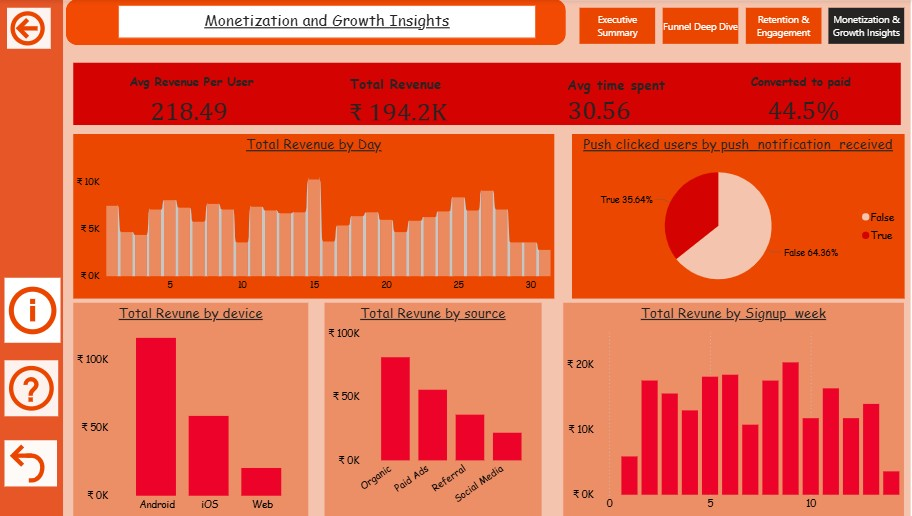

Layout of this report page (visuals, bound fields, positions):
{"tool":"powerbi","page":{"name":"Monetization & Growth Insights","canvas":[1280,720],"ordinal":3},"visuals":[{"type":"shape","box":[5.6,1.4,1268.9,719.3],"z":0},{"type":"shape","box":[10.5,0,88.4,719.8],"z":1000},{"type":"columnChart","fields":{"Y":["reading_app_funnel_dataset.Total Revune"],"Category":["reading_app_funnel_dataset.source"]},"box":[460.5,420.2,300.5,300.5],"z":2000},{"type":"columnChart","fields":{"Y":["reading_app_funnel_dataset.Total Revune"],"Category":["reading_app_funnel_dataset.device"]},"box":[112.7,420.2,325.6,300.5],"z":3000},{"type":"pieChart","fields":{"Category":["reading_app_funnel_dataset.push_notification_received"],"Y":["reading_app_funnel_dataset.Push clicked users"]},"box":[802.8,186.4,460.5,228.2],"z":4000},{"type":"columnChart","title":"Total Revenue by Day","fields":{"Category":["reading_app_funnel_dataset.signup_date.Variation.Date Hierarchy.Day"],"Y":["reading_app_funnel_dataset.Total Revune"]},"box":[112.7,186.4,666.4,228.2],"z":5000},{"type":"lineStackedColumnComboChart","fields":{"Category":["reading_app_funnel_dataset.Signup_week"],"Y":["reading_app_funnel_dataset.Total Revune"]},"box":[791.7,420.2,471.7,299.1],"z":6000},{"type":"shape","box":[103,0,692.9,64],"z":7000},{"type":"textbox","box":[175.3,8.3,578.8,45.9],"z":8000},{"type":"shape","box":[112.7,89,1146.4,86.3],"z":9000},{"type":"card","fields":{"Values":["reading_app_funnel_dataset.ARRPU"]},"box":[173.9,132.2,200.3,43.1],"z":10000},{"type":"card","fields":{"Values":["reading_app_funnel_dataset.Total Revune"]},"box":[449.4,136.3,225.4,36.2],"z":11000},{"type":"card","fields":{"Values":["reading_app_funnel_dataset.Average Session duration"]},"box":[730.4,132.2,221.2,40.3],"z":12000},{"type":"card","fields":{"Values":["reading_app_funnel_dataset.conversion to paid"]},"box":[1015.7,130.8,215.7,41.7],"z":13000},{"type":"textbox","box":[158.6,98.8,233.7,33.4],"z":14000},{"type":"textbox","box":[729,100.2,221.2,32],"z":15000},{"type":"textbox","box":[442.4,98.8,221.2,32],"z":16000},{"type":"textbox","box":[1010.1,98.8,221.2,33.4],"z":17000}]}

Visuals, with their boxes on the page's 1280x720 design canvas (x1, y1, x2, y2). These are canvas units, not pixel positions in the 912x516 screenshot, which may show the page scaled, cropped or inside an application window:
shape: locate(6, 1, 1274, 721)
shape: locate(10, 0, 99, 720)
columnChart - reading_app_funnel_dataset.Total Revune x reading_app_funnel_dataset.source: locate(460, 420, 761, 721)
columnChart - reading_app_funnel_dataset.Total Revune x reading_app_funnel_dataset.device: locate(113, 420, 438, 721)
pieChart - reading_app_funnel_dataset.push_notification_received x reading_app_funnel_dataset.Push clicked users: locate(803, 186, 1263, 415)
"Total Revenue by Day" columnChart: locate(113, 186, 779, 415)
lineStackedColumnComboChart - reading_app_funnel_dataset.Signup_week x reading_app_funnel_dataset.Total Revune: locate(792, 420, 1263, 719)
shape: locate(103, 0, 796, 64)
textbox: locate(175, 8, 754, 54)
shape: locate(113, 89, 1259, 175)
card - reading_app_funnel_dataset.ARRPU: locate(174, 132, 374, 175)
card - reading_app_funnel_dataset.Total Revune: locate(449, 136, 675, 172)
card - reading_app_funnel_dataset.Average Session duration: locate(730, 132, 952, 172)
card - reading_app_funnel_dataset.conversion to paid: locate(1016, 131, 1231, 172)
textbox: locate(159, 99, 392, 132)
textbox: locate(729, 100, 950, 132)
textbox: locate(442, 99, 664, 131)
textbox: locate(1010, 99, 1231, 132)
